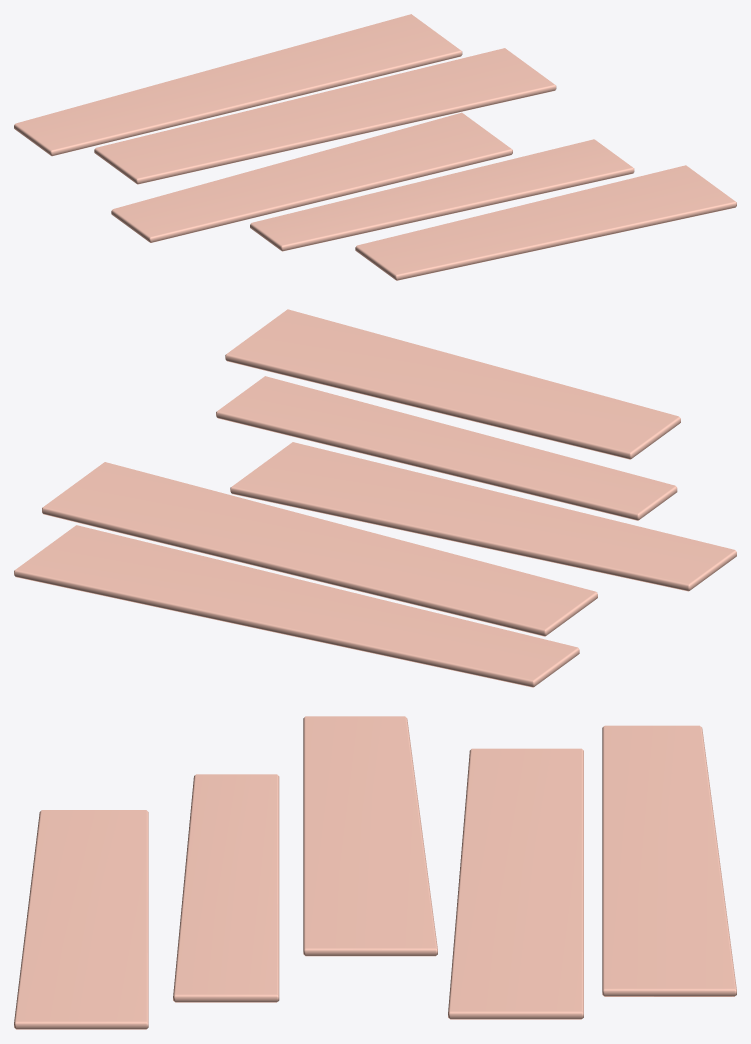
File: Farm_5_Path_1.glb
3 views of the same model, one above another, from view 1: azimuth 30°, elevation 25°; view 2: azimuth 150°, elevation 25°; view 3: azimuth 270°, elevation 25° (orthographic). The views are drawn at different scales.
Visible parts, largest first — view 1: Farm_5_Path_1; view 2: Farm_5_Path_1; view 3: Farm_5_Path_1.
Boxes of the visible parts, box(x1,y1,x2,y2) form: Farm_5_Path_1: box(14, 14, 736, 280); Farm_5_Path_1: box(14, 309, 736, 687); Farm_5_Path_1: box(14, 716, 736, 1029).
Bounding box in the file's own units: 3.02 × 0.0385 × 3.
1 material, 1 textured.
